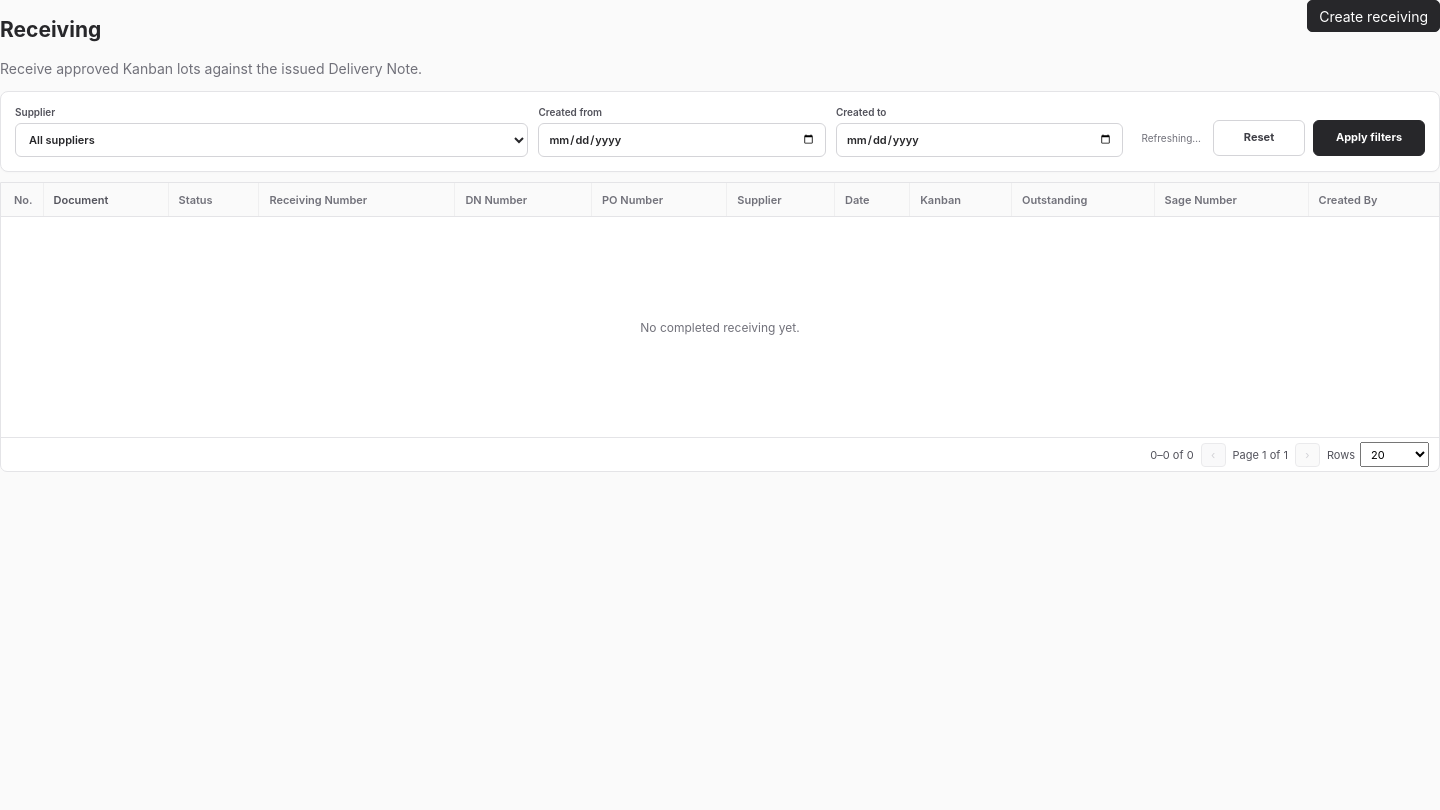
Scenario: shows English validation for DN_IN_PROGRESS
The image size is (1440, 810).
Click the button "Create receiving". click: click(1374, 16)
box: [1307,0,1439,32]
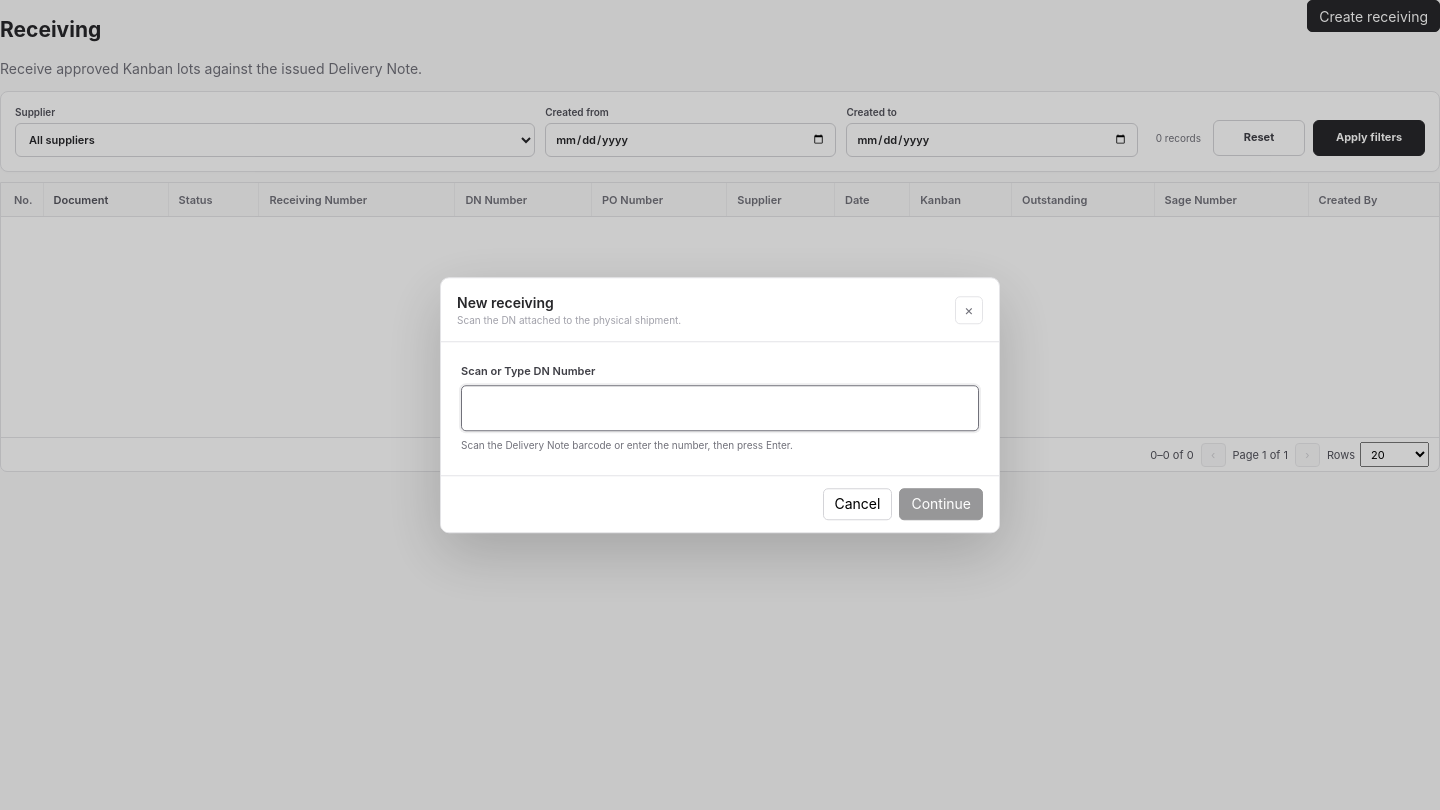
Type "DN-X" into the field labelled "Scan or Type DN Number". click: (720, 408)
box: [461,385,979,431]
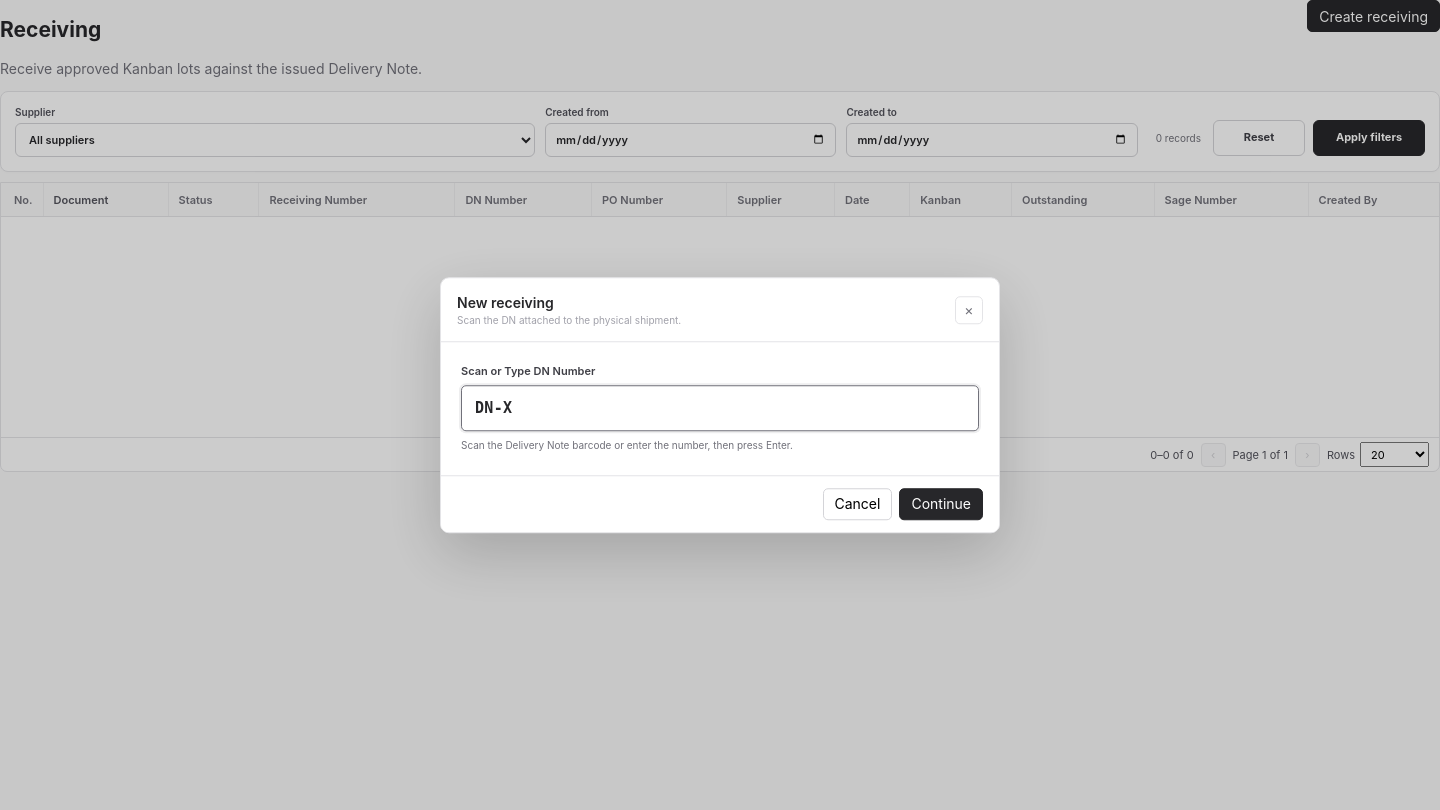
Submit the form labelled "Scan or Type DN Number", box [441,342,999,532]
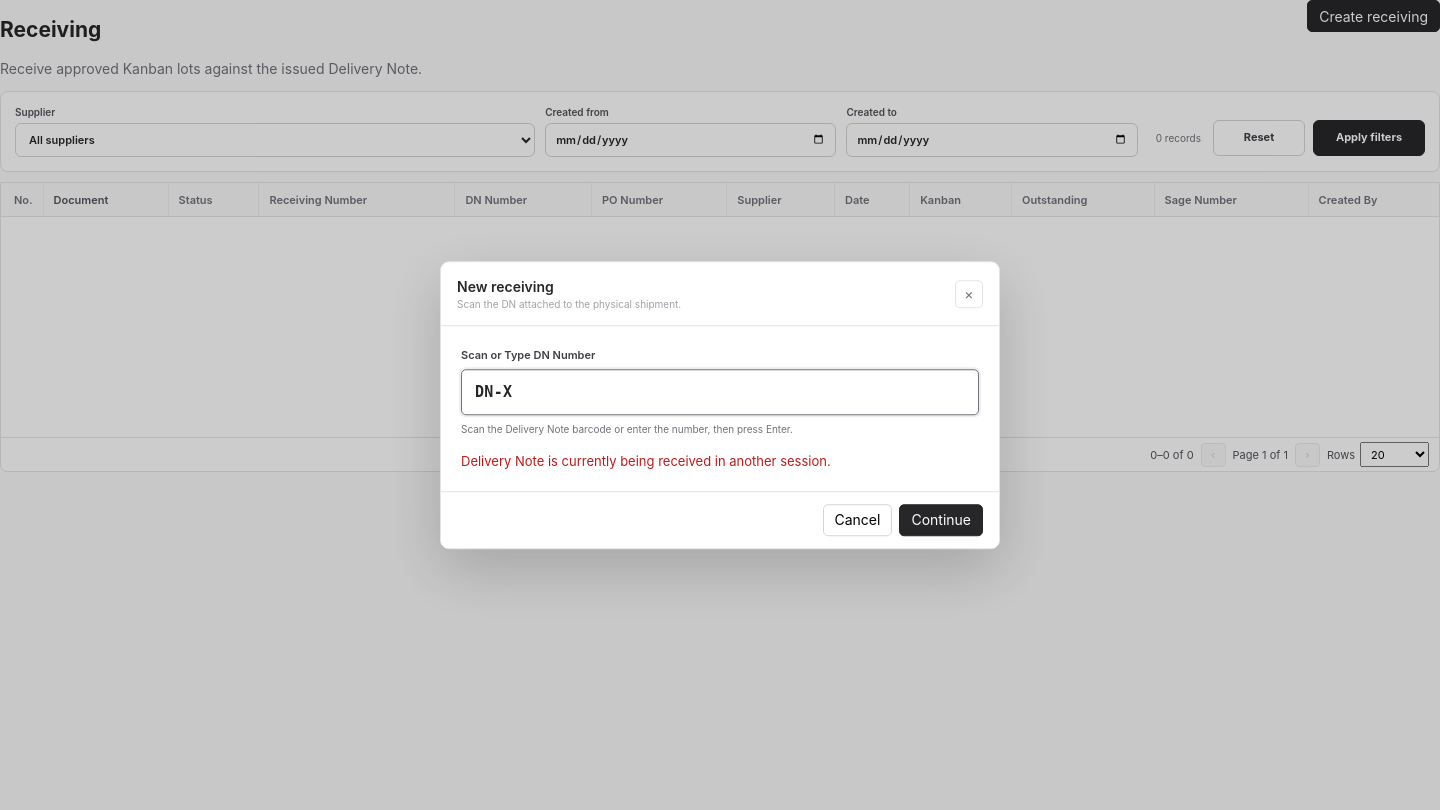
Now the message reads "Delivery Note is currently being received in another session.", box [461,453,831,469]
